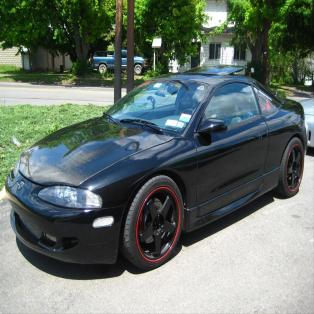Auto: (5, 74, 306, 272)
